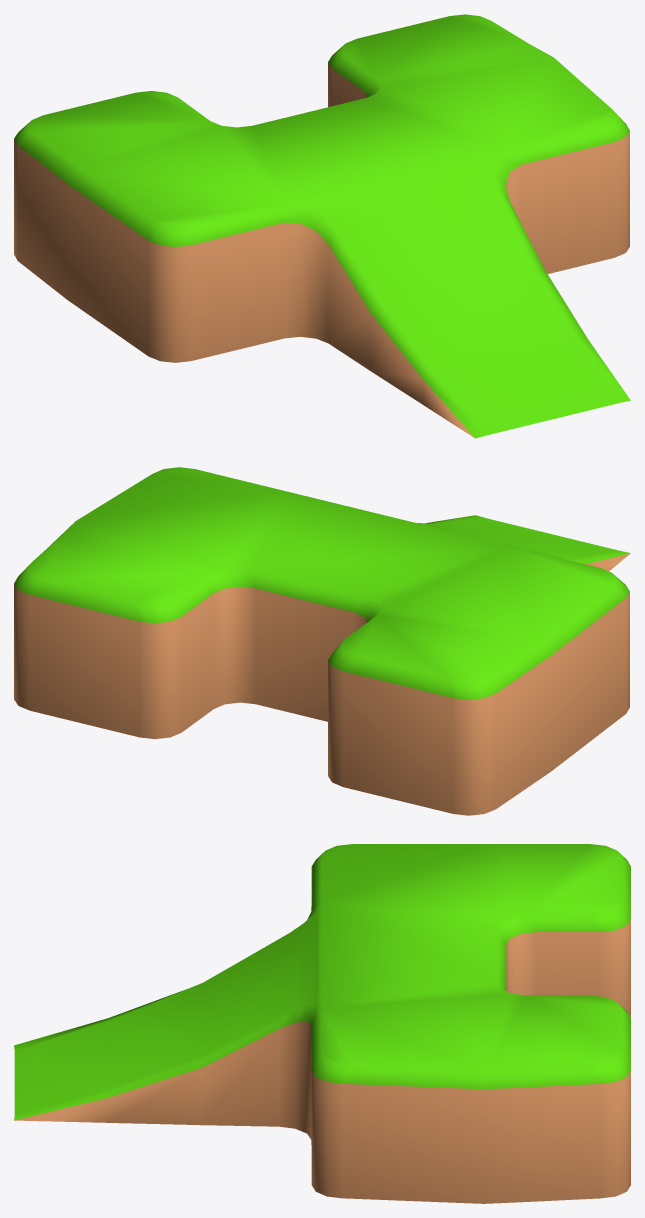
The model's file is Hill_2.fbx.
The picture shows the model from 3 angles, top to bottom: view 1: azimuth 30°, elevation 25°; view 2: azimuth 150°, elevation 25°; view 3: azimuth 270°, elevation 25°; orthographic projection.
Parts seen in each view (by area): view 1: Hill_2; view 2: Hill_2; view 3: Hill_2.
Boxes of the visible parts, x1,y1,x2,y2 form: Hill_2: (14, 14, 630, 438); Hill_2: (14, 467, 630, 815); Hill_2: (14, 844, 630, 1203).
Bounding box in the file's own units: 7.97 × 2 × 8.74.
